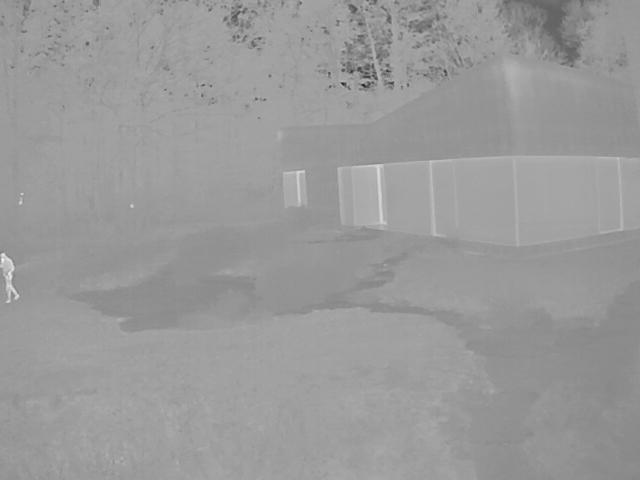person: (1, 252, 20, 304)
